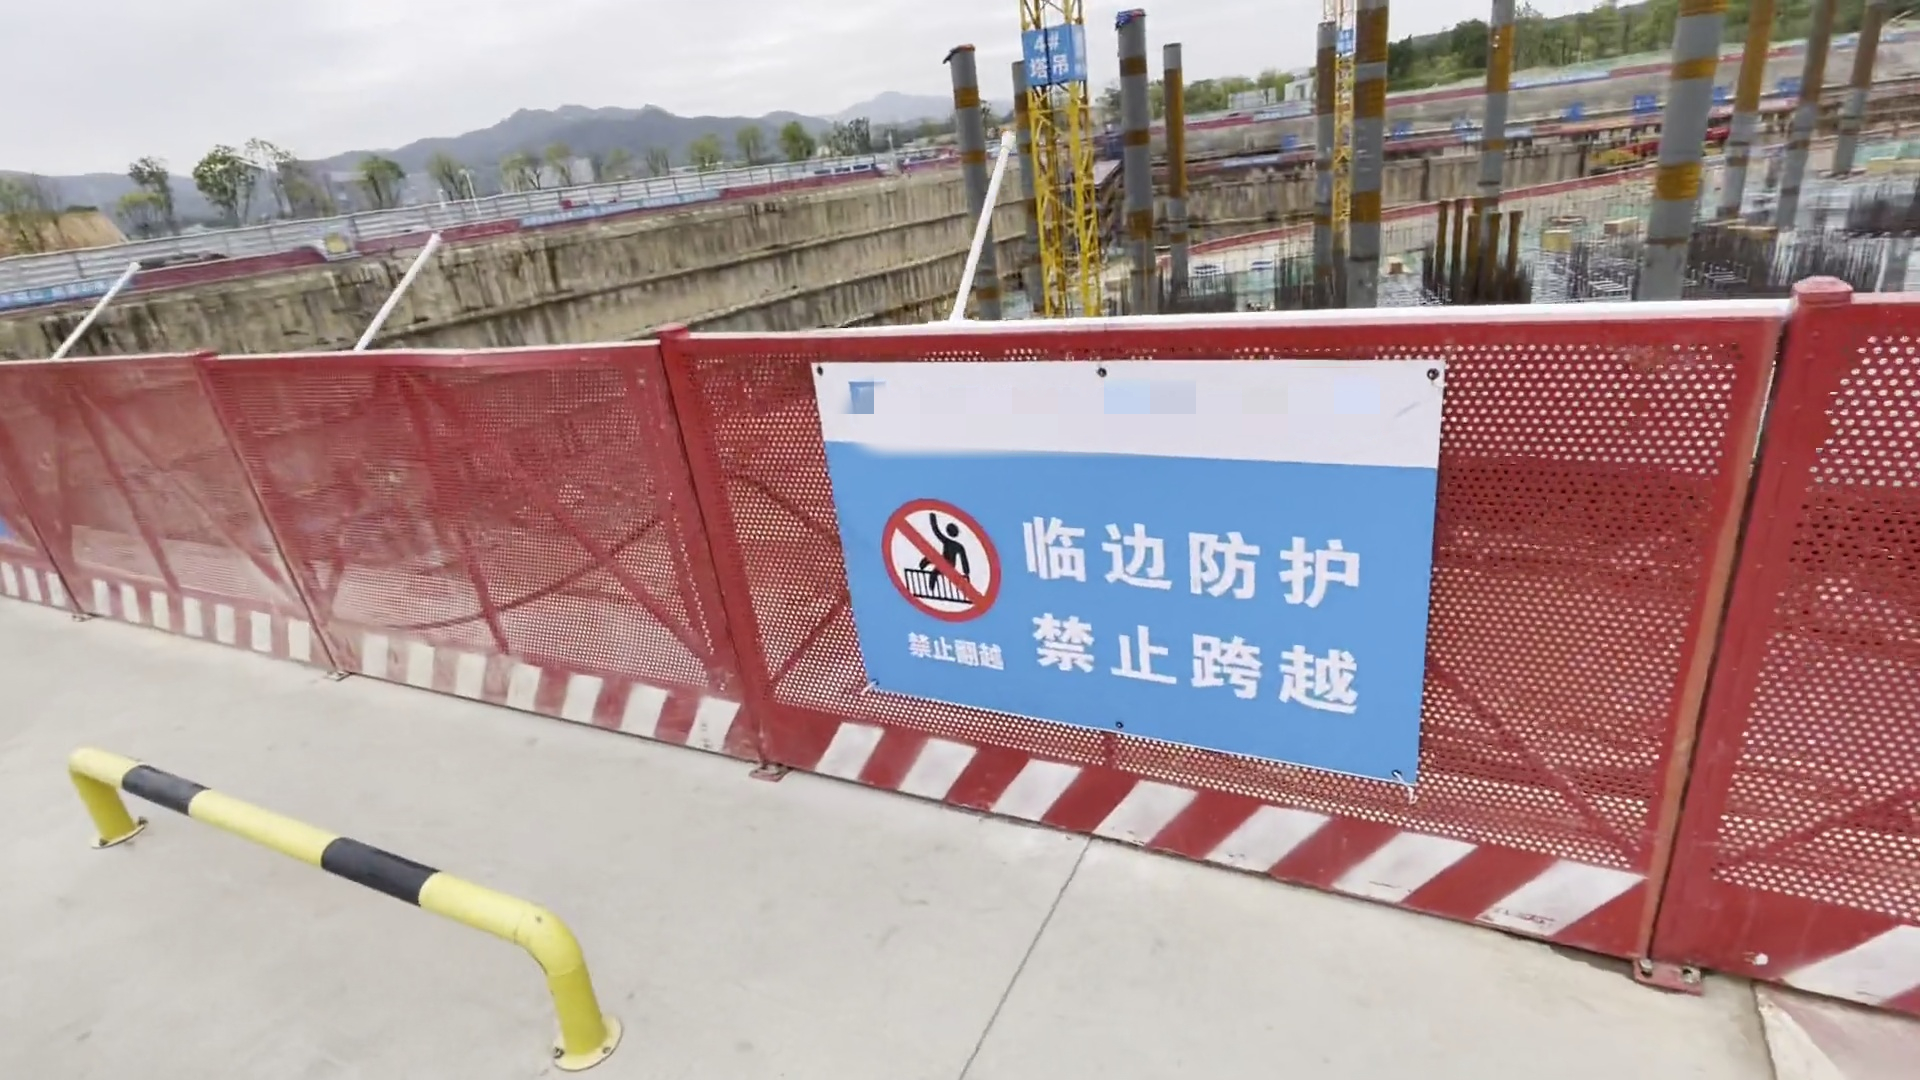fence: (1416, 323, 1920, 996), (1, 328, 822, 653)
slogan: (822, 415, 1406, 764)
